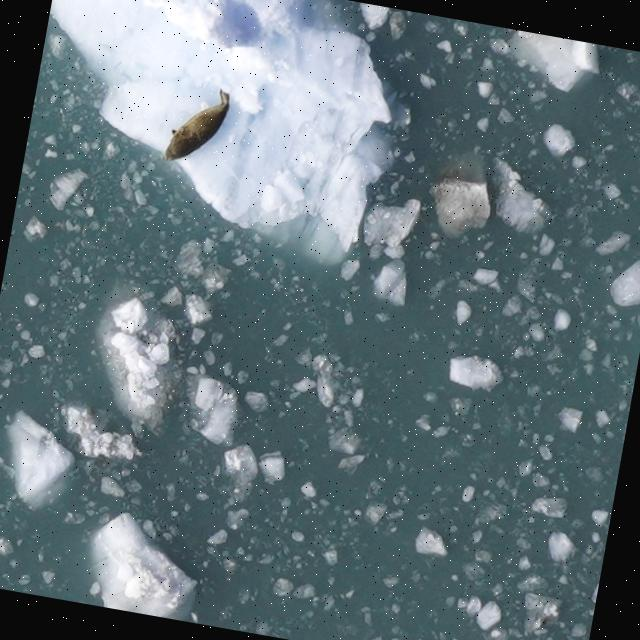seal: (155, 73, 236, 175)
